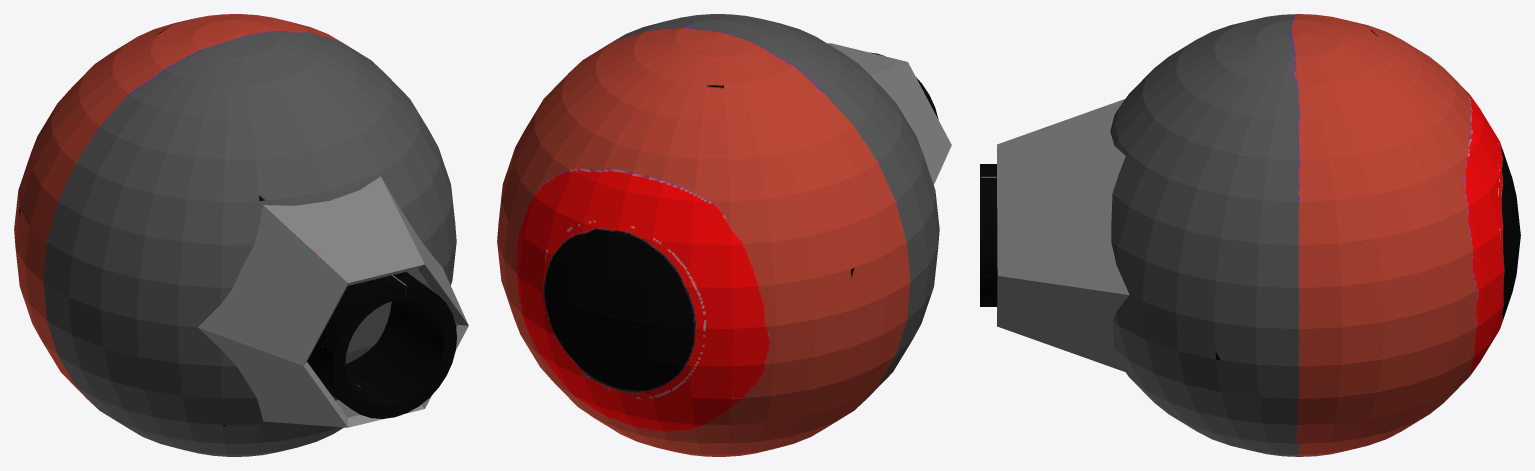
The model's file is medamanAvatarDead.obj.
3 views of the same model, side by side, from view 1: azimuth 30°, elevation 25°; view 2: azimuth 150°, elevation 25°; view 3: azimuth 270°, elevation 25° (orthographic).
Parts seen in each view (by area): view 1: 球, 立方体_立方体.001, 円柱_円柱.001; view 2: 球, 立方体_立方体.001; view 3: 球, 立方体_立方体.001, 円柱_円柱.001.
Part boxes in pixels (left/top/right/bottom): 球: left=14, top=14, right=456, bottom=456; 立方体_立方体.001: left=198, top=176, right=468, bottom=427; 円柱_円柱.001: left=307, top=272, right=456, bottom=418; 球: left=497, top=14, right=939, bottom=456; 立方体_立方体.001: left=827, top=43, right=951, bottom=184; 球: left=1110, top=14, right=1520, bottom=456; 立方体_立方体.001: left=997, top=99, right=1129, bottom=372; 円柱_円柱.001: left=980, top=164, right=997, bottom=306.
Bounding box in the file's own units: 2 × 2 × 2.44.
Materials: 3 (3 with a texture image).
